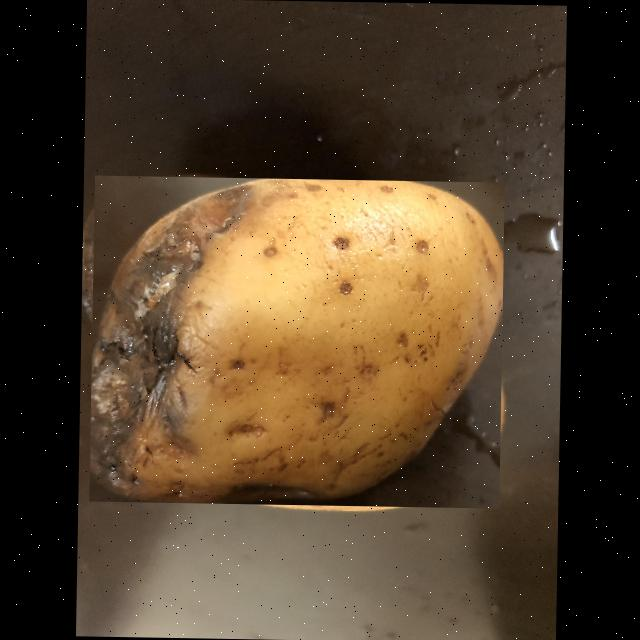Damaged potato: (88, 174, 504, 507)
